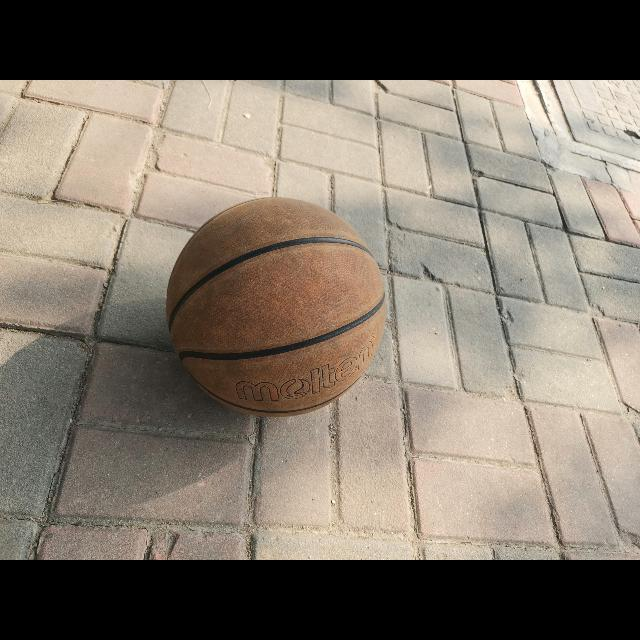basketball: (166, 199, 384, 417)
